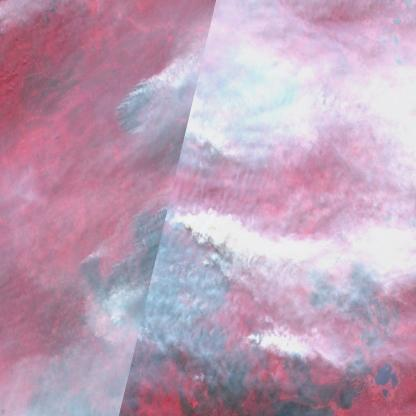fire: (75, 209, 242, 348), (111, 76, 170, 148), (188, 367, 200, 382)
